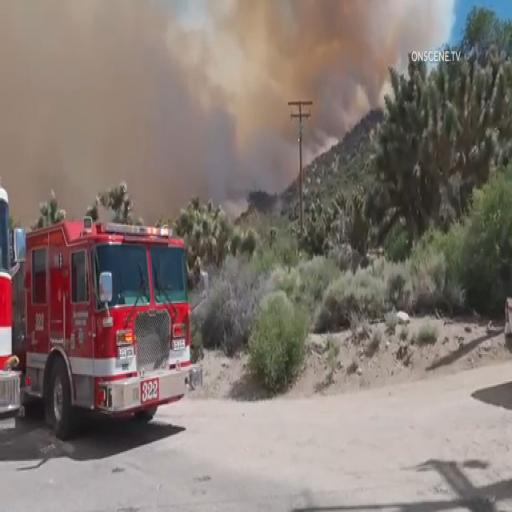smoke: (208, 0, 325, 85)
